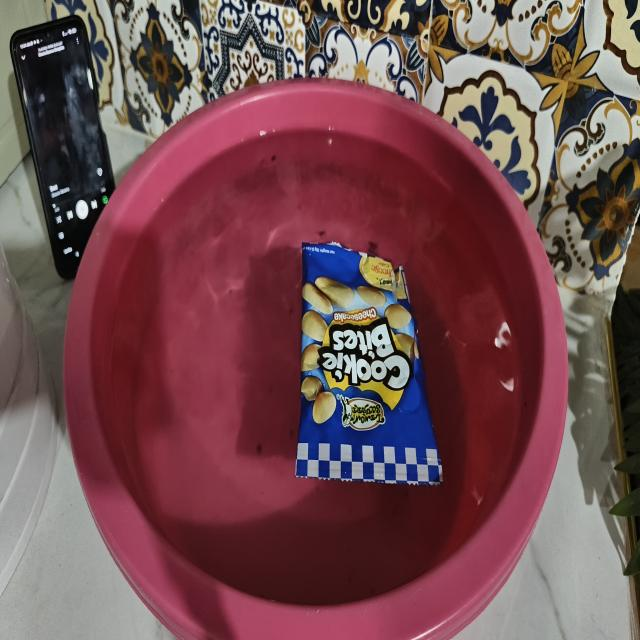Plastic Wrapper: (268, 214, 462, 536)
